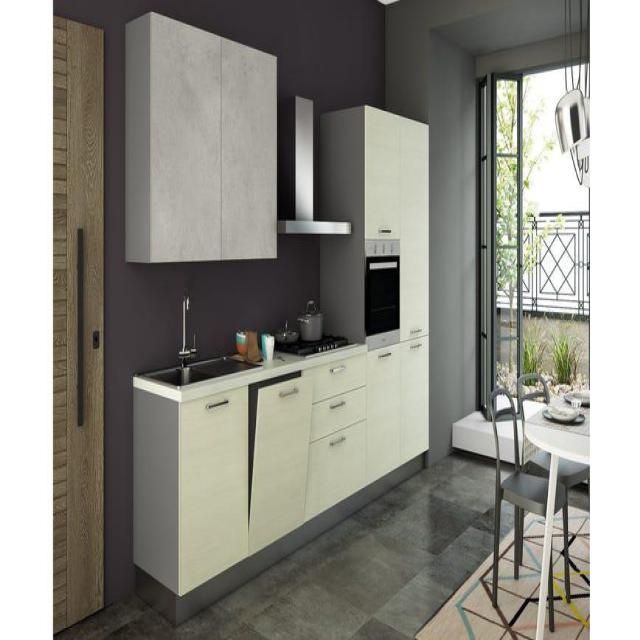dishwasher: (245, 361, 315, 563)
